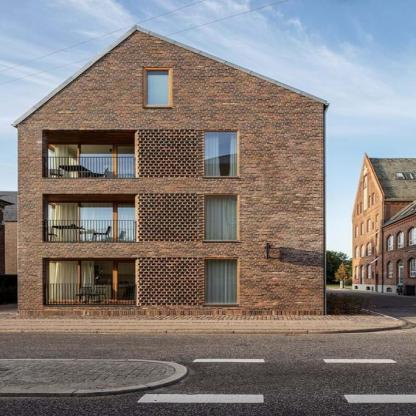Balcony: (45, 284, 136, 306), (45, 221, 136, 243), (45, 157, 136, 178)
Building Outline: (10, 24, 332, 317)
Door: (80, 263, 113, 300), (118, 263, 139, 301), (118, 146, 139, 183), (118, 205, 139, 242)
Facade: (10, 24, 332, 317)
Floor Slab: (18, 243, 323, 251), (18, 179, 323, 186)
Roof: (10, 24, 331, 129)
Window: (43, 258, 136, 307), (43, 130, 136, 178), (43, 194, 136, 242), (204, 132, 238, 176), (205, 260, 238, 304), (204, 196, 237, 240), (80, 203, 113, 242), (80, 145, 113, 183), (48, 145, 77, 183), (47, 203, 75, 242), (49, 263, 78, 300), (147, 70, 169, 105)
